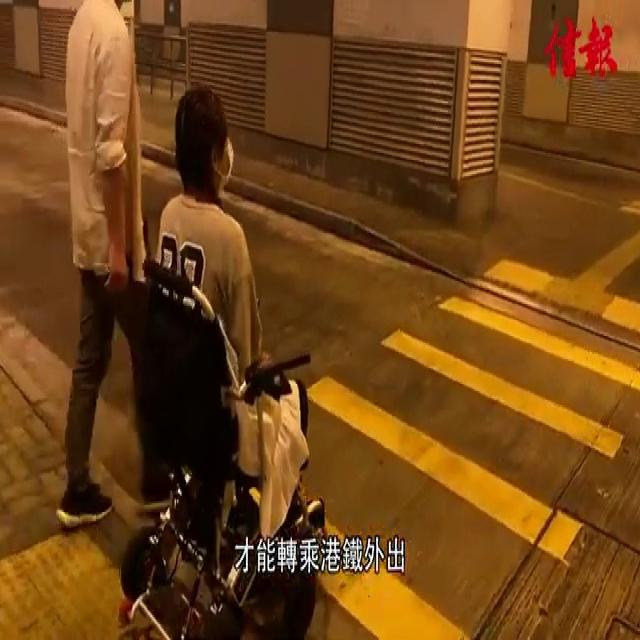wheelchairs: (111, 250, 331, 640)
